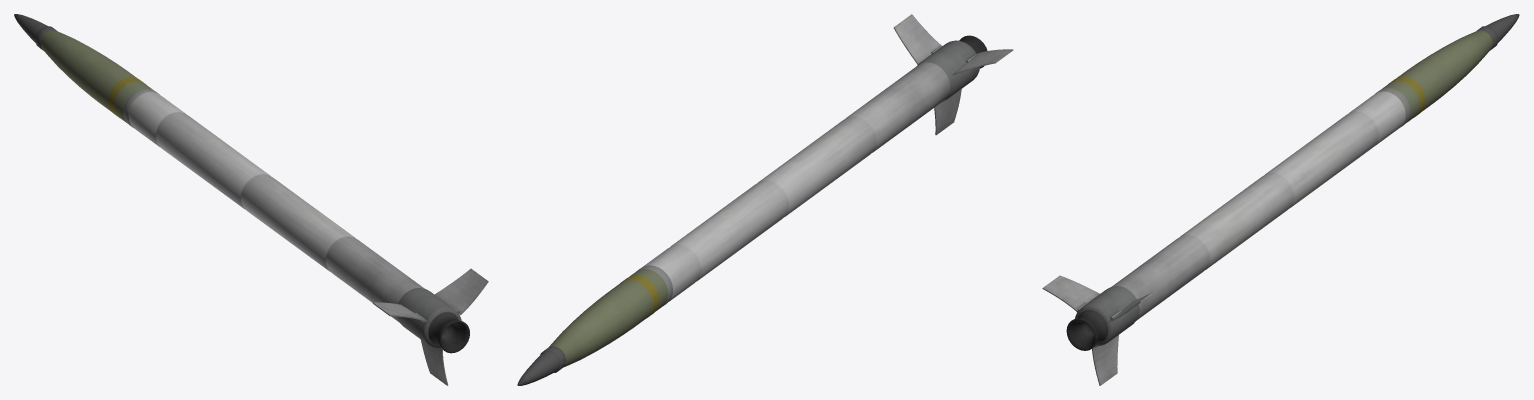
The model's file is hydra70.glb.
3 renders of one model, left to right at view 1: azimuth 30°, elevation 25°; view 2: azimuth 150°, elevation 25°; view 3: azimuth 330°, elevation 25°, orthographic. The views are drawn at different scales.
Parts seen in each view (by area): view 1: H70_motor, H70_warhead, H70_tail, H70_nozzle, H70_fin0, H70_fin2, H70_fin1, H70_fuze; view 2: H70_motor, H70_warhead, H70_tail, H70_fin0, H70_fuze, H70_fin2, H70_fin1; view 3: H70_motor, H70_warhead, H70_tail, H70_nozzle, H70_fin1, H70_fin2, H70_fuze.
Part boxes in pixels (x1=…): H70_motor: x1=128, y1=92, x2=424, y2=322; H70_warhead: x1=41, y1=30, x2=152, y2=123; H70_tail: x1=397, y1=288, x2=461, y2=348; H70_nozzle: x1=428, y1=312, x2=469, y2=353; H70_fin0: x1=435, y1=268, x2=488, y2=315; H70_fin2: x1=420, y1=339, x2=448, y2=385; H70_fin1: x1=372, y1=302, x2=426, y2=321; H70_fuze: x1=14, y1=14, x2=47, y2=42; H70_motor: x1=643, y1=62, x2=950, y2=301; H70_warhead: x1=549, y1=269, x2=667, y2=367; H70_tail: x1=917, y1=40, x2=979, y2=101; H70_fin0: x1=893, y1=14, x2=941, y2=64; H70_fuze: x1=517, y1=351, x2=559, y2=385; H70_fin2: x1=934, y1=89, x2=961, y2=135; H70_fin1: x1=952, y1=49, x2=1013, y2=75; H70_motor: x1=1111, y1=91, x2=1405, y2=320; H70_warhead: x1=1381, y1=30, x2=1492, y2=122; H70_tail: x1=1075, y1=286, x2=1139, y2=346; H70_nozzle: x1=1066, y1=310, x2=1108, y2=350; H70_fin1: x1=1042, y1=275, x2=1099, y2=311; H70_fin2: x1=1092, y1=335, x2=1118, y2=385; H70_fuze: x1=1485, y1=14, x2=1519, y2=42.
Size of the model in its own units: 0.1884 by 0.1727 by 1.45.
7 materials, 7 textured.
